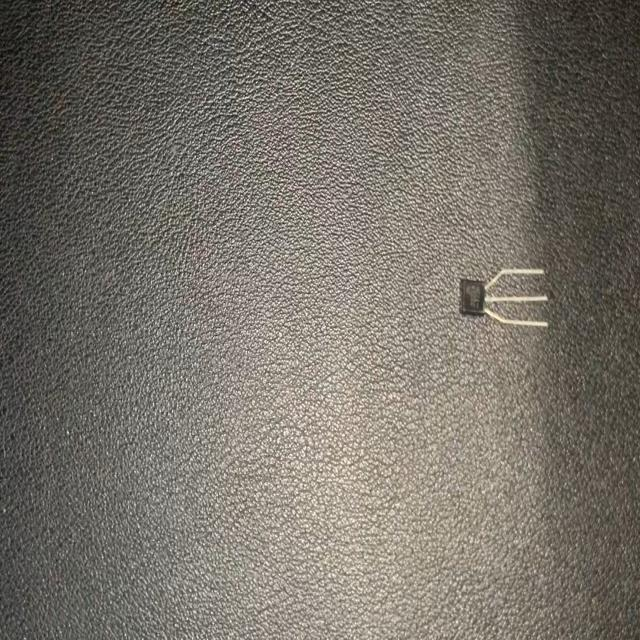BJT: (458, 264, 550, 333)
